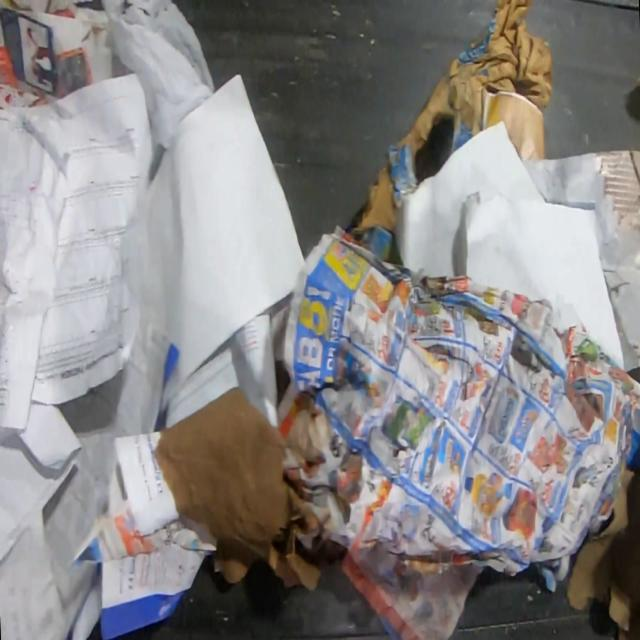cardboard: (152, 385, 334, 591)
soft_plastic: (99, 0, 216, 149)
